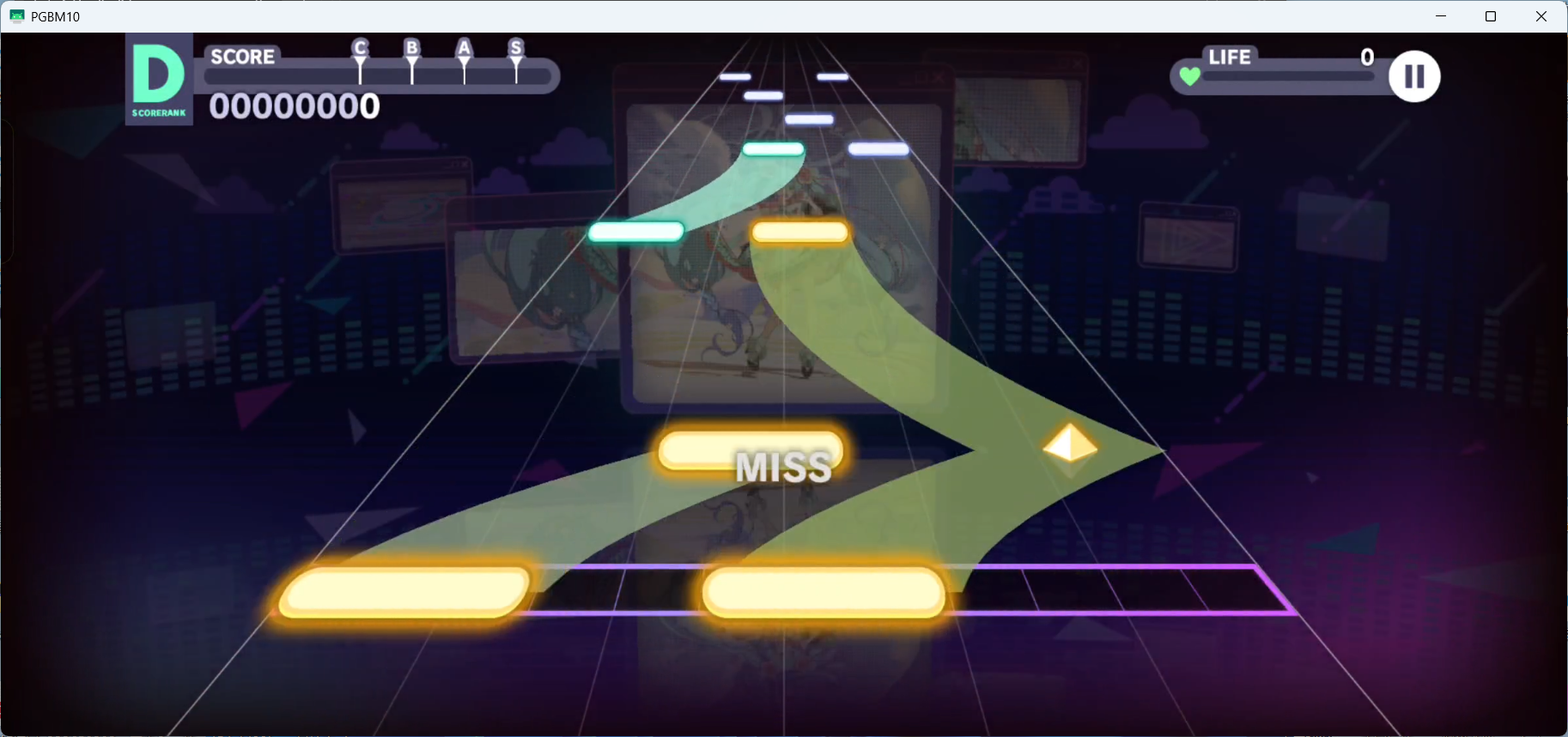hold: (736, 245, 1165, 565), (336, 472, 768, 568), (620, 157, 805, 222)
sweep: (1042, 423, 1098, 480)
tap: (278, 566, 529, 621), (702, 567, 945, 620), (659, 431, 844, 471), (752, 220, 848, 244), (589, 221, 684, 241), (743, 141, 804, 156), (848, 141, 909, 156), (785, 114, 833, 125), (744, 91, 783, 100), (719, 74, 751, 80), (817, 74, 848, 80)
